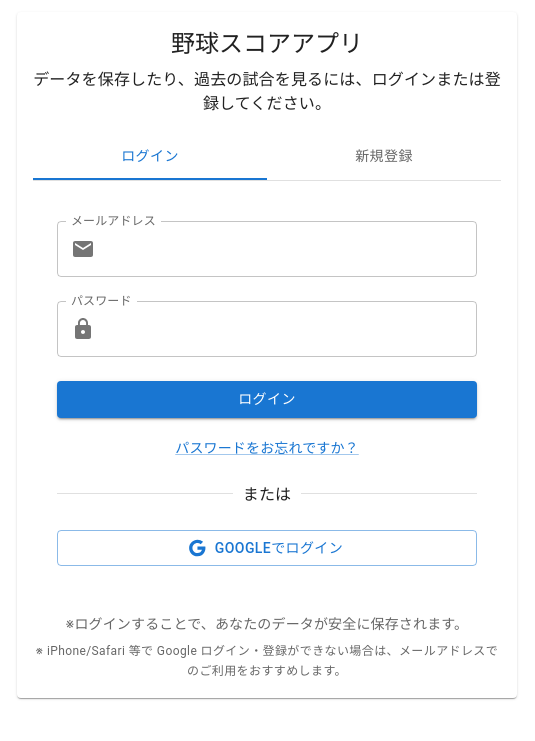
Test: Login component - Google Sign In › 新規ユーザー登録時にストレージ非対応エラー (auth/web-storage-unsupported) が発生した場合に対処案内を表示する
Click the tab "新規登録" at (384, 156), box [267,132,501,180]
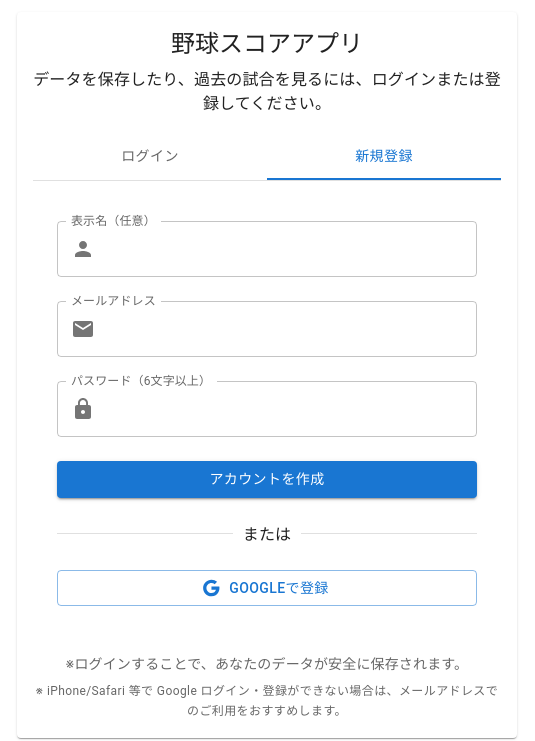
Type "new@example.com" into the field labelled "メールアドレス" at (290, 329), box [103,301,477,357]
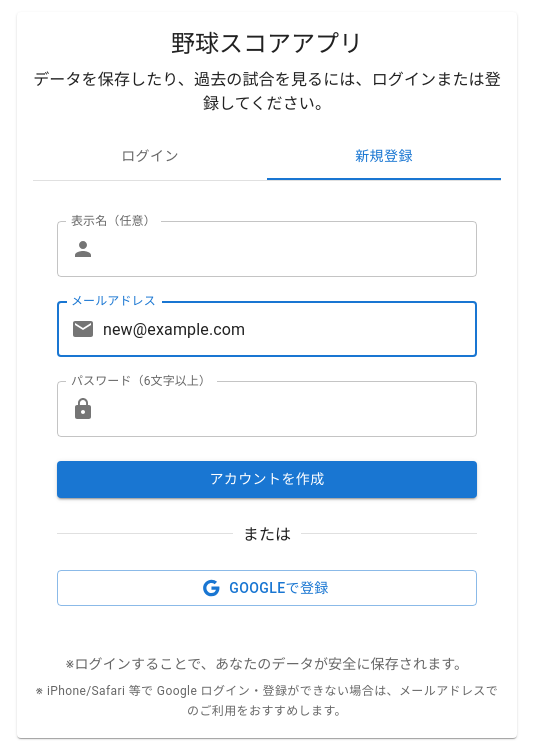
Type "password123" into the password field labelled "パスワード（6文字以上）" at (290, 409), box [103,381,477,437]
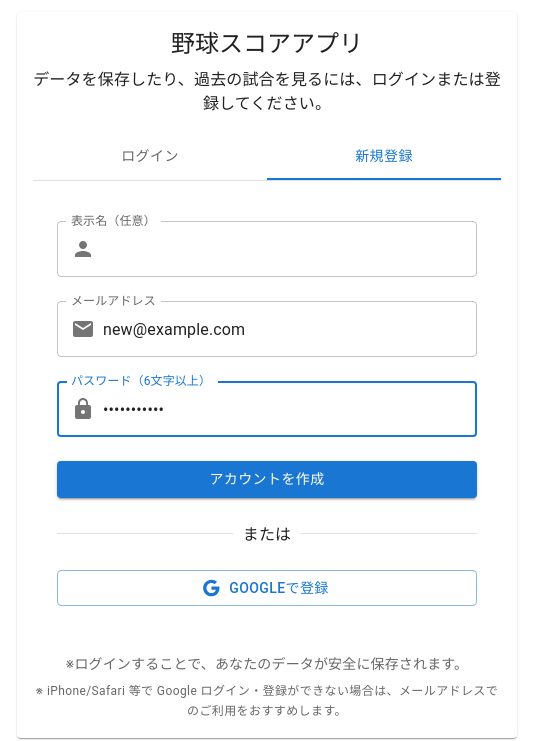
Click the button "アカウントを作成" at (267, 480), box [57,461,477,498]
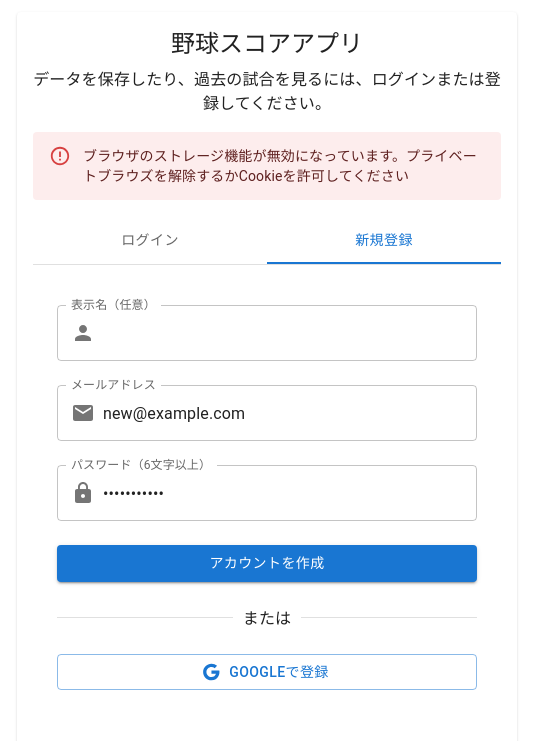
Expected: the message reads "ブラウザのストレージ機能が無効になっています。プライベートブラウズを解除するかCookieを許可してください", [83,148,477,184]
